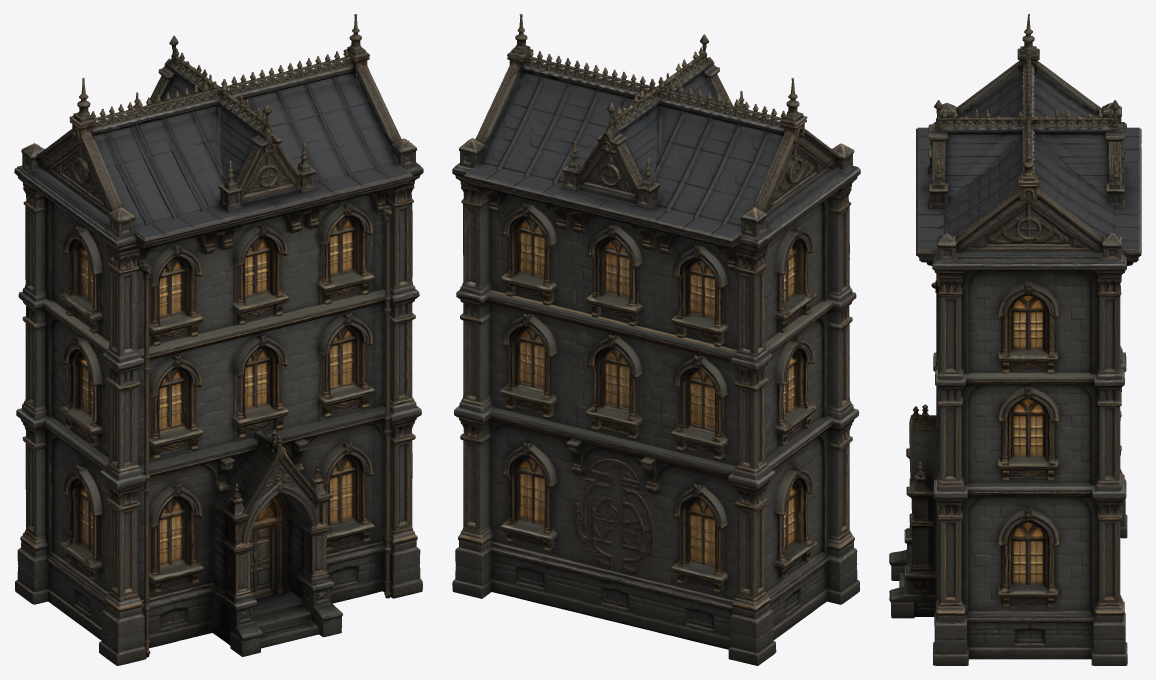
Rendered from gothic_building2.glb.
The picture shows the model from 3 angles, left to right: view 1: azimuth 30°, elevation 25°; view 2: azimuth 150°, elevation 25°; view 3: azimuth 270°, elevation 25°; orthographic projection. The views are drawn at different scales.
Size of the model in its own units: 0.5759 by 0.9772 by 0.4311.
1 material, 1 textured.
